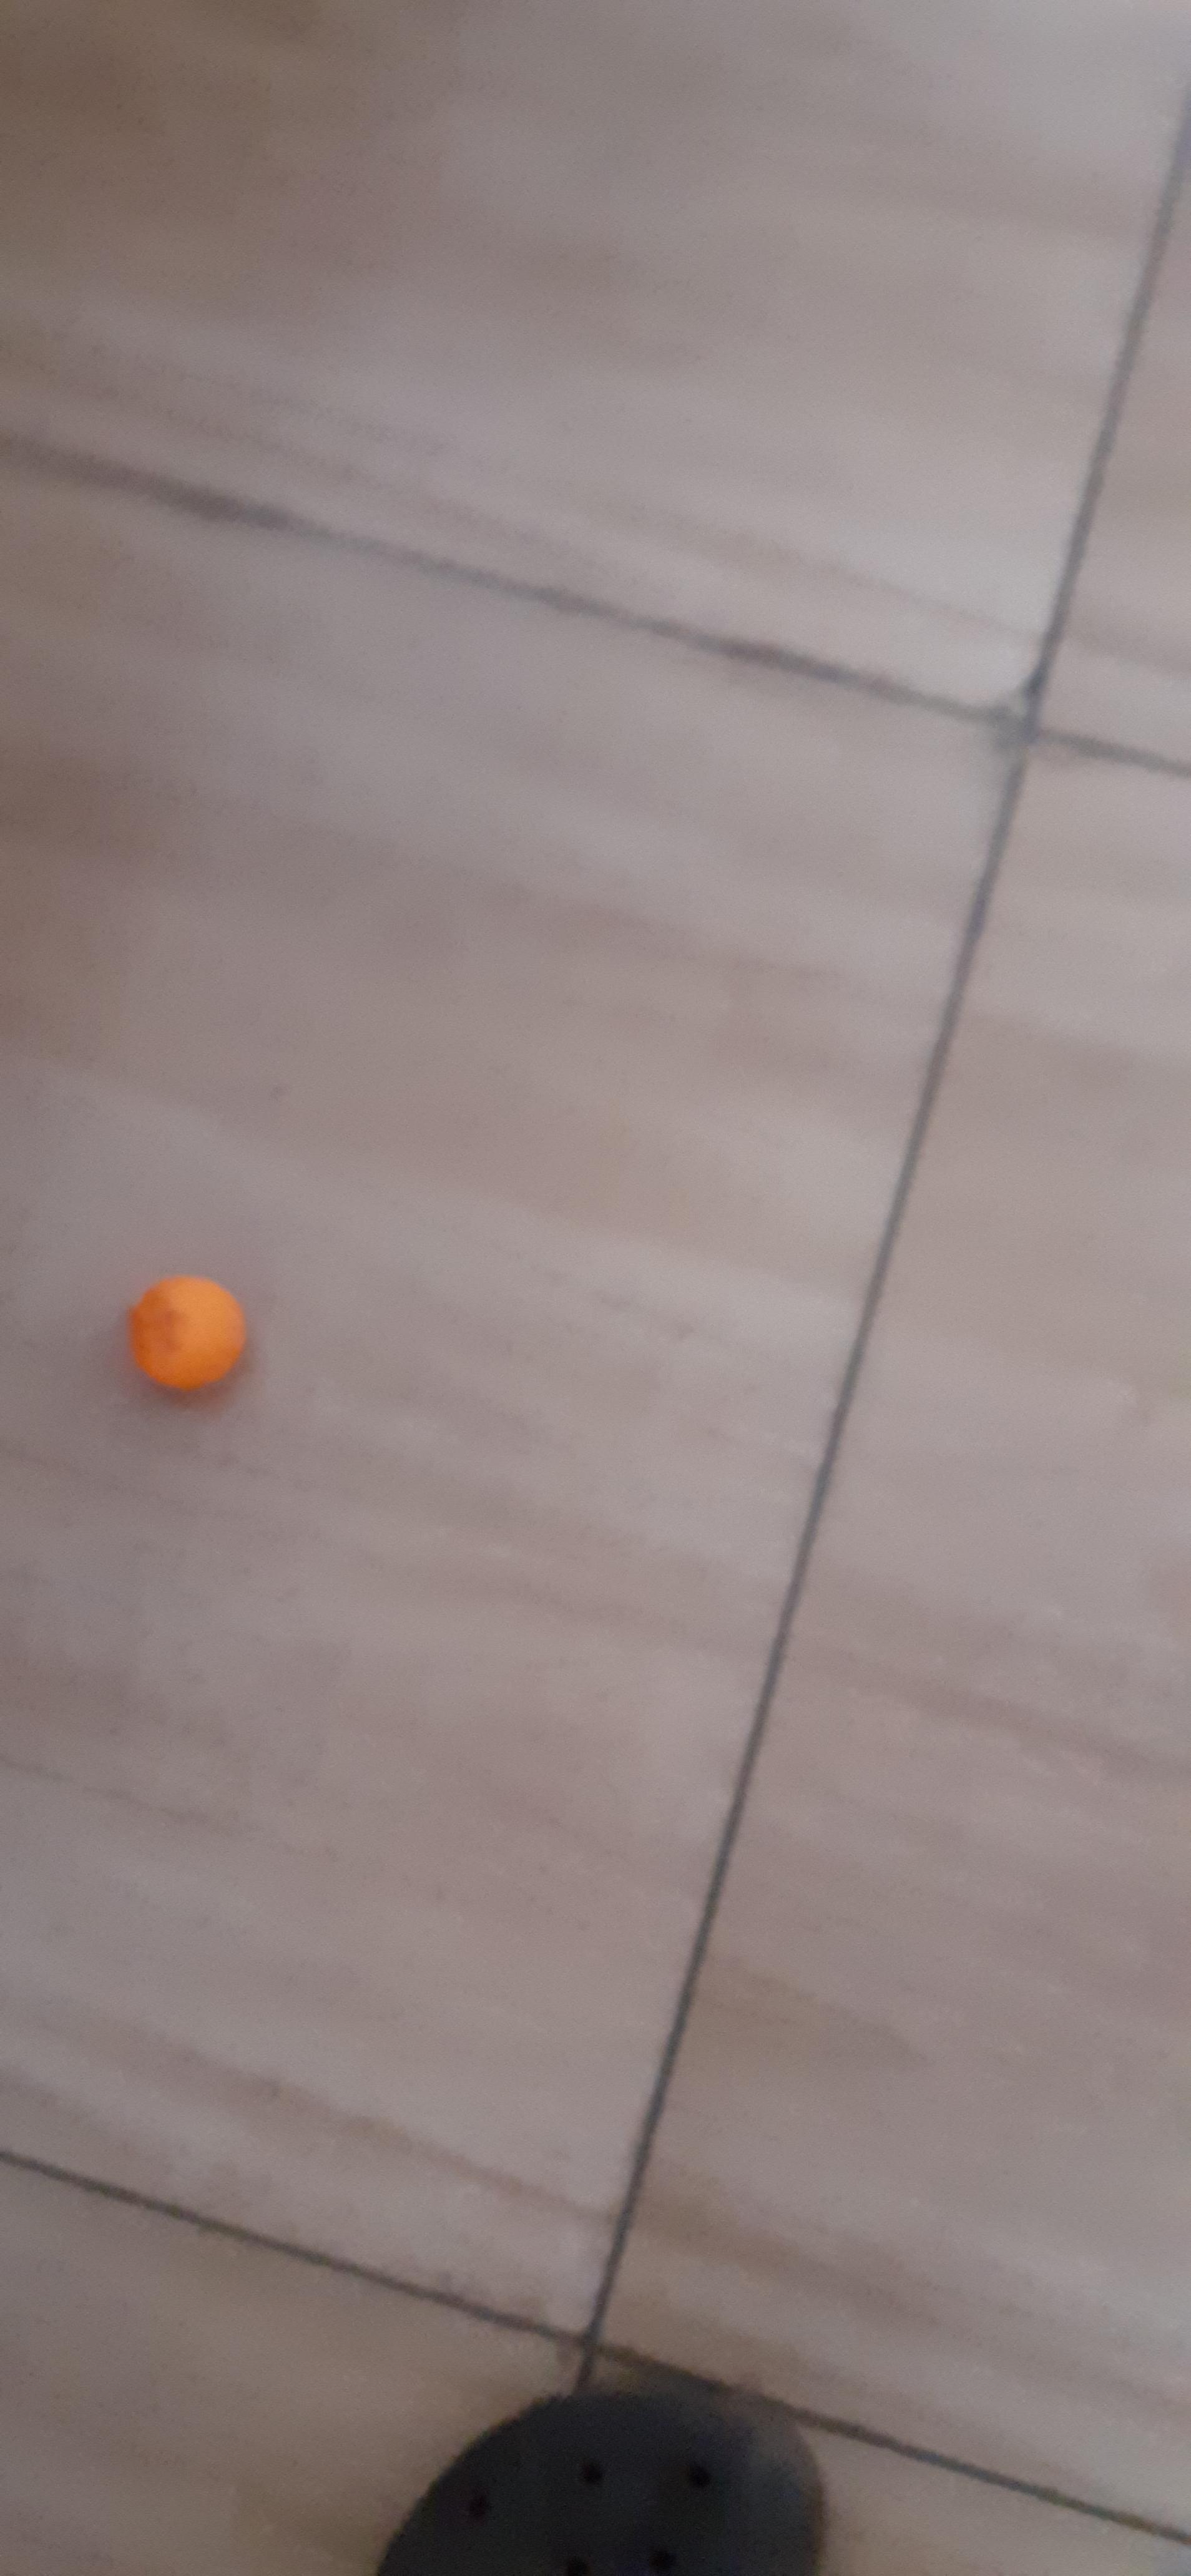orange: (126, 1283, 243, 1396)
